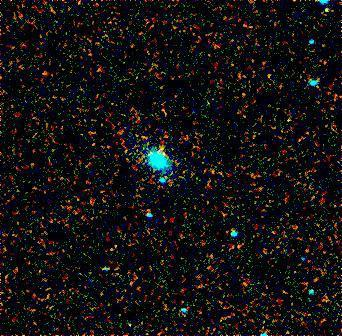star: (313, 0, 342, 26)
